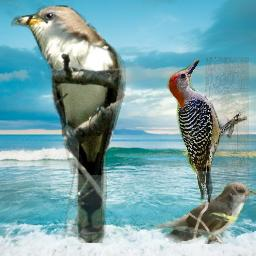Cuckoo: (11, 5, 126, 243), (153, 181, 256, 244)
Woodpecker: (163, 57, 249, 203)
